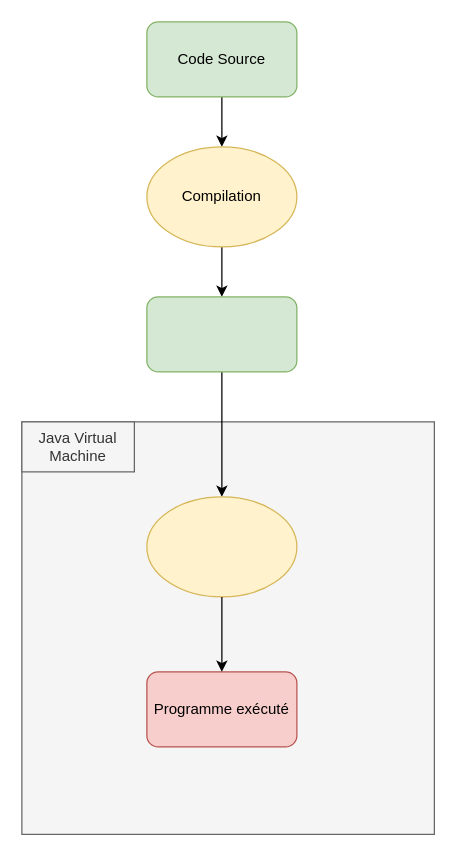
Some shapes in this 456 by 856 pixel diagram are drawn without their labels. The centre of each missing label's shape, as x and y in pixels:
"Bytecode" belongs at (x=221, y=334).
"Compilation Just In Time" belongs at (x=221, y=546).
